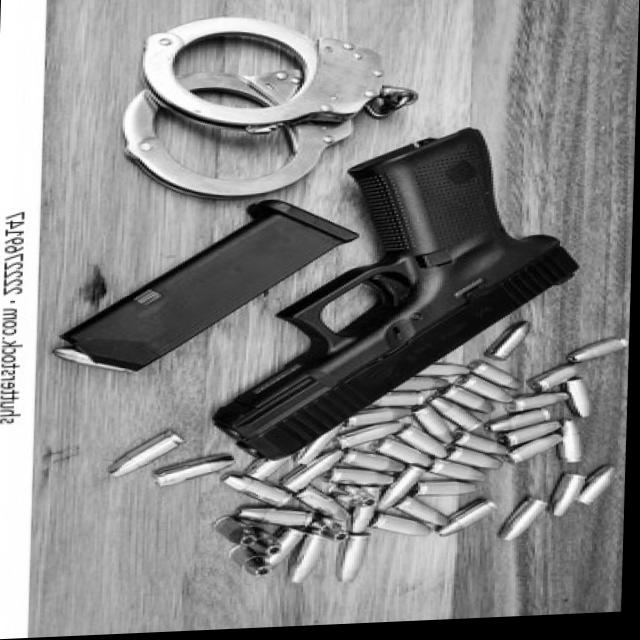handgun: (184, 116, 595, 470)
